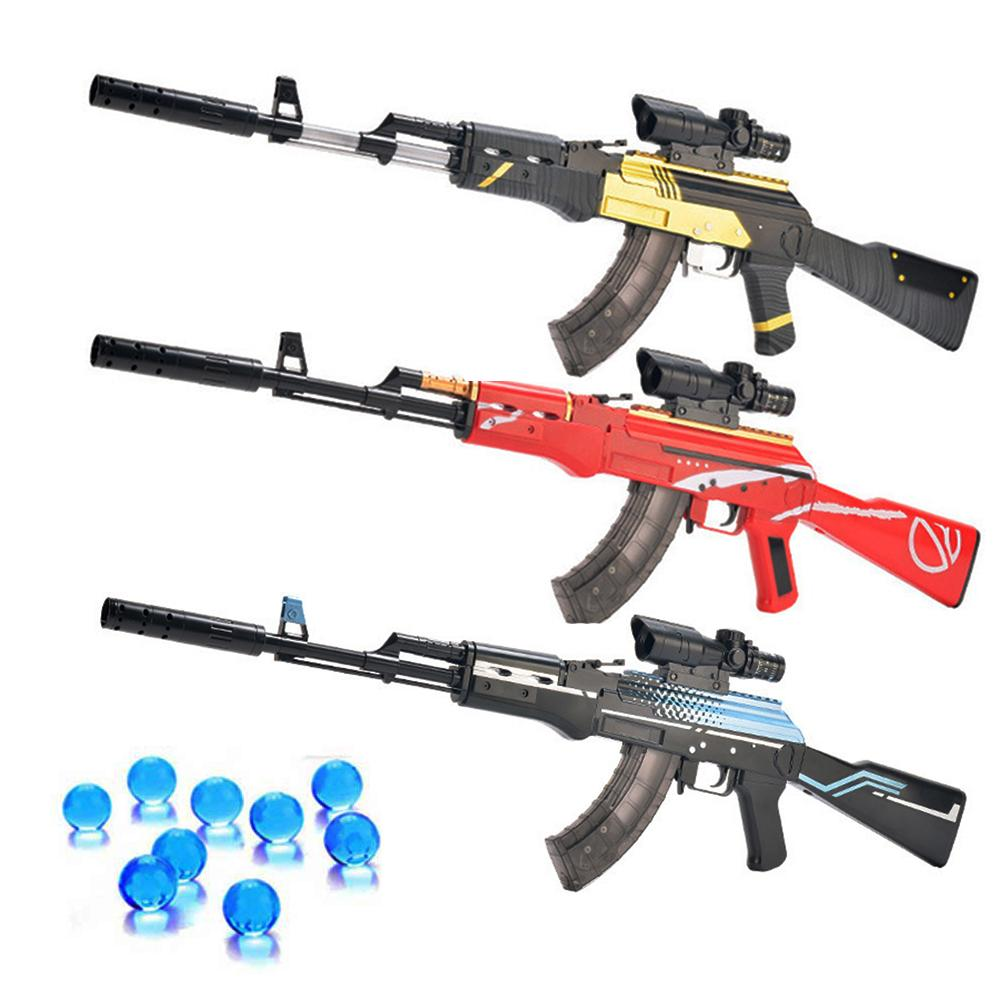Arma Falsa: (84, 328, 983, 625), (79, 65, 987, 347), (97, 592, 971, 882)
